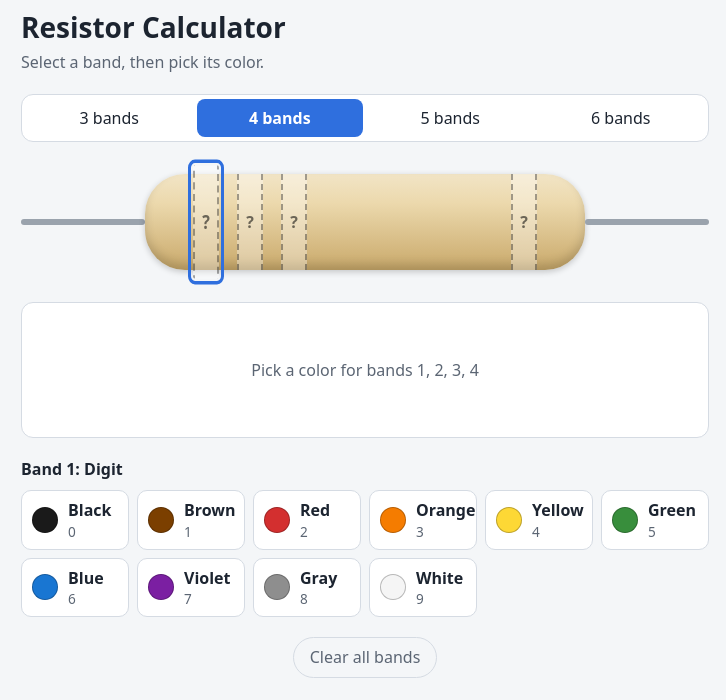
Test: App › clears all bands
This screenshot has width=726, height=700.
Click the button "Brown 1": (191, 520) [137,490,245,550]
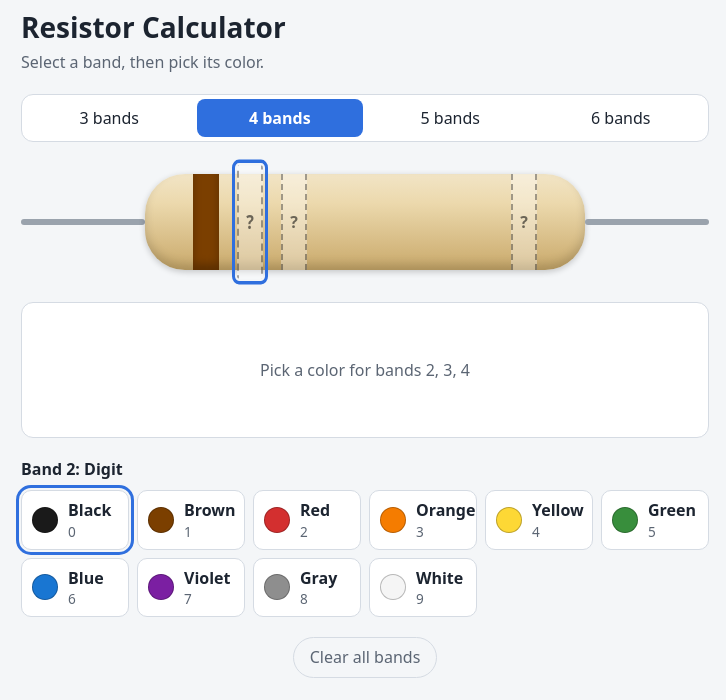
Click the button "Clear all bands": (365, 657) [293,637,437,678]
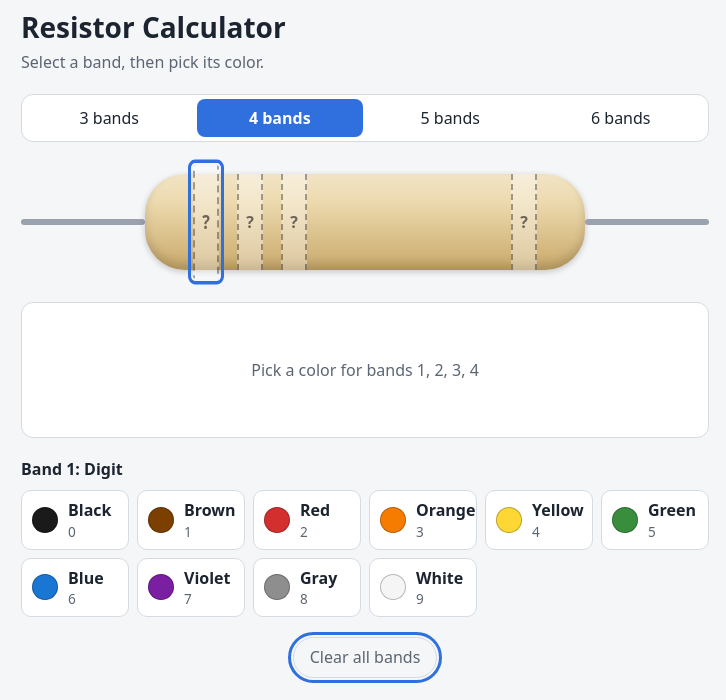
expect the button named "Band 1, digit: not set" is shown: met, box [193,165,219,279]
